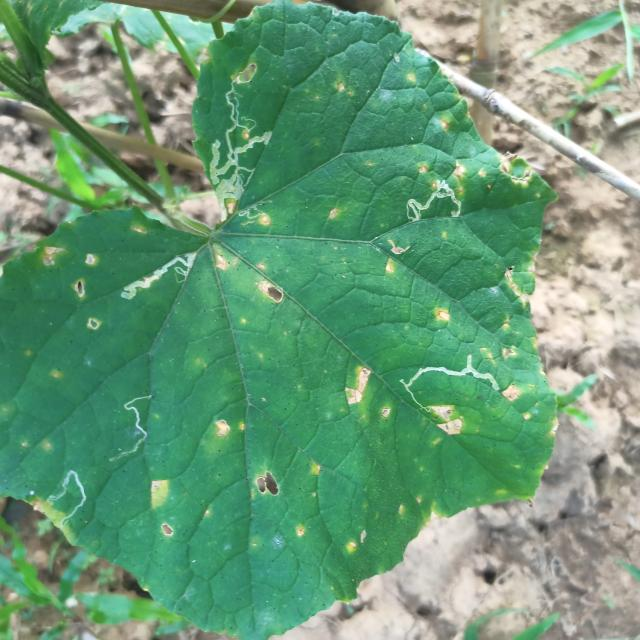disease_cucumber: (251, 460, 326, 547), (214, 217, 286, 306), (480, 270, 538, 370), (449, 148, 542, 194), (38, 244, 97, 304), (344, 364, 392, 424), (506, 383, 564, 432), (148, 480, 182, 544), (428, 402, 464, 439), (212, 416, 248, 444)
